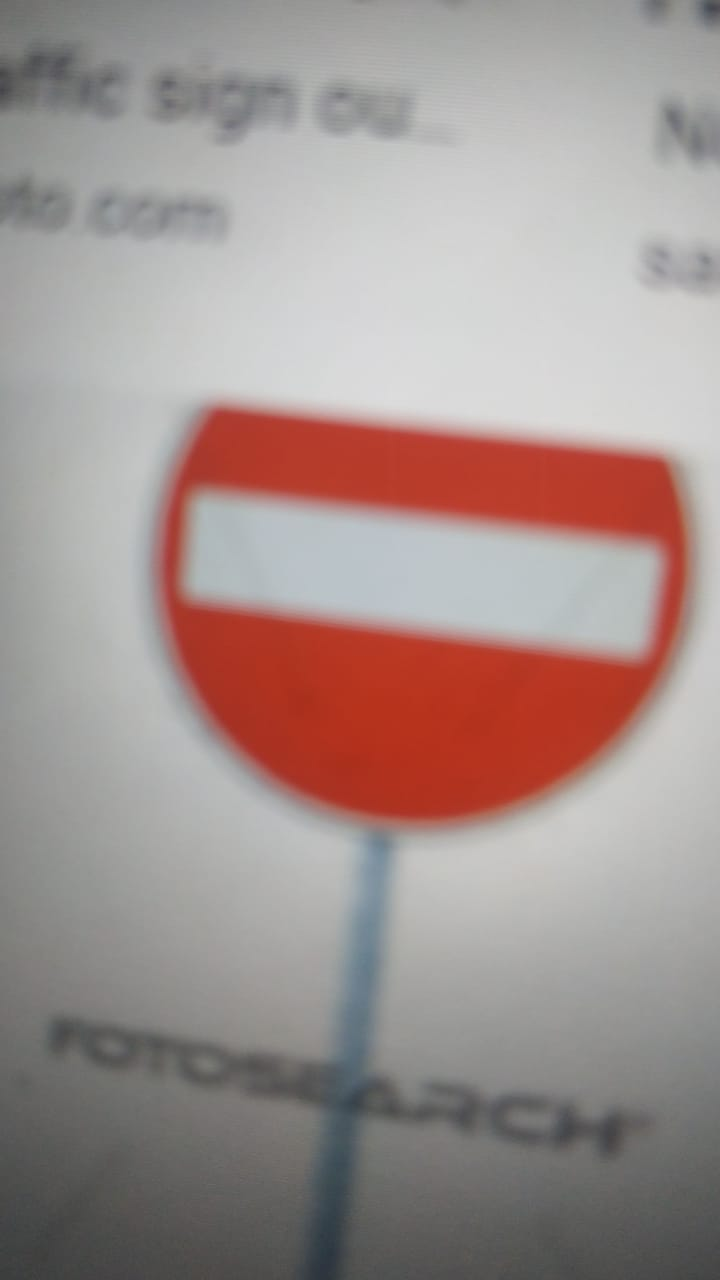NO ENTRY: (144, 323, 691, 858)
